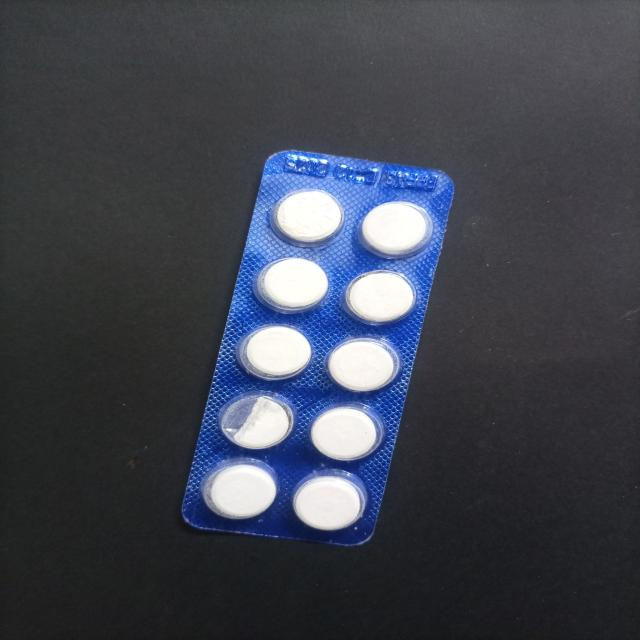defect: (216, 387, 298, 453)
